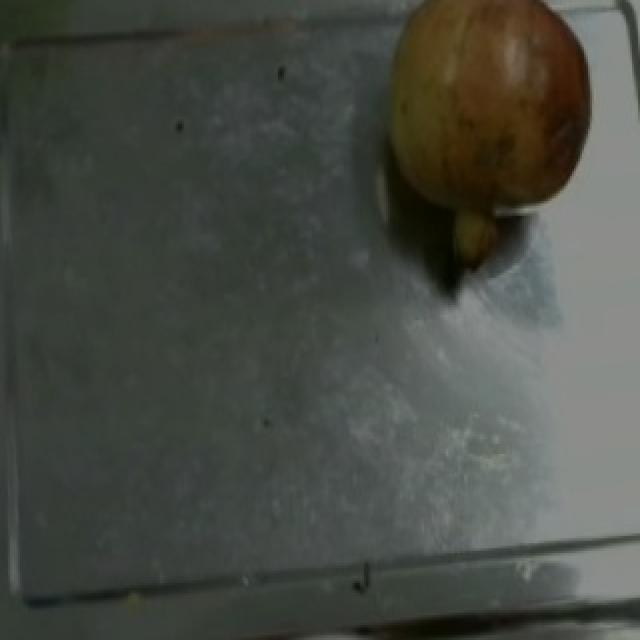fruit: (356, 0, 610, 248)
